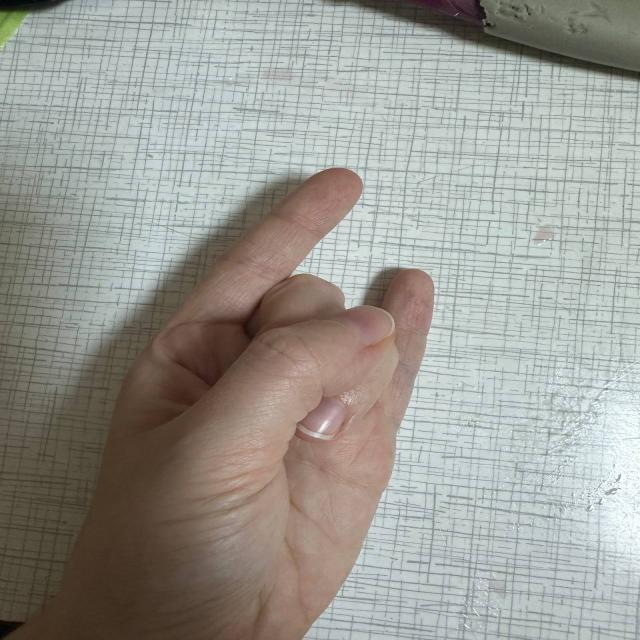y: (129, 168, 440, 625)
